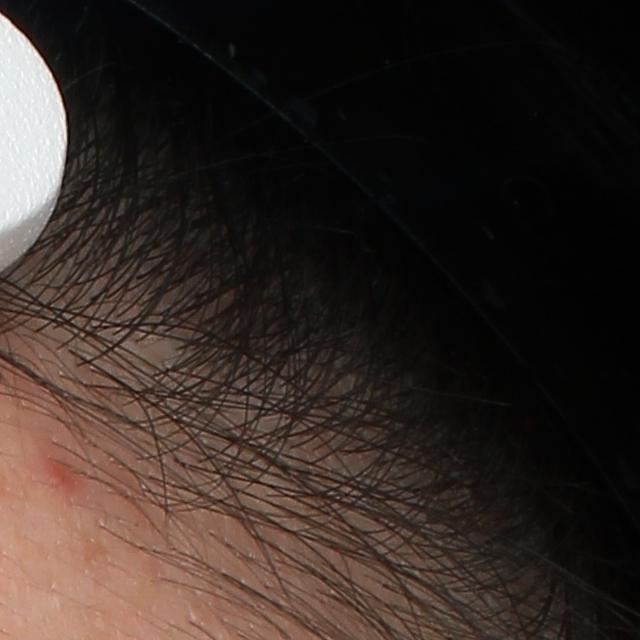papule: (42, 454, 79, 491)
